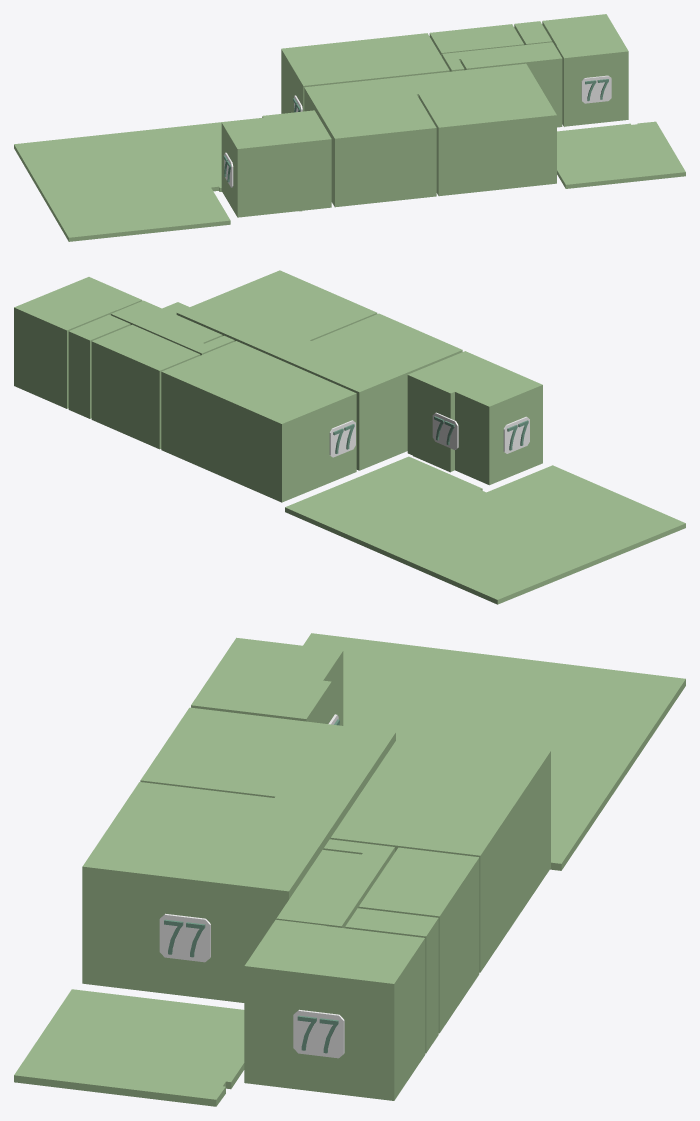
The picture shows the model from 3 angles, top to bottom: view 1: azimuth 30°, elevation 25°; view 2: azimuth 150°, elevation 25°; view 3: azimuth 270°, elevation 25°; orthographic projection. The views are drawn at different scales.
Visible parts, largest first — view 1: g_9, g_4, g_3, g_0, g_1, g_8, g_2, g_5, g_6, g_18, g_7; view 2: g_9, g_1, g_0, g_3, g_4, g_6, g_2, g_5, g_7, g_21, g_27, g_12; view 3: g_4, g_9, g_2, g_1, g_8, g_3, g_6, g_0, g_5, g_7, g_15, g_24.
Part boxes in pixels (left/top/right/bottom): g_9: left=14, top=118, right=261, bottom=241; g_4: left=408, top=63, right=556, bottom=196; g_3: left=304, top=76, right=436, bottom=207; g_0: left=221, top=110, right=331, bottom=217; g_1: left=281, top=33, right=449, bottom=113; g_8: left=557, top=121, right=685, bottom=188; g_2: left=542, top=14, right=628, bottom=126; g_5: left=442, top=42, right=562, bottom=127; g_6: left=429, top=24, right=524, bottom=56; g_18: left=581, top=75, right=611, bottom=103; g_7: left=514, top=21, right=552, bottom=44; g_9: left=285, top=456, right=685, bottom=604; g_1: left=161, top=341, right=356, bottom=502; g_0: left=407, top=351, right=542, bottom=485; g_3: left=274, top=313, right=462, bottom=470; g_4: left=176, top=270, right=377, bottom=356; g_6: left=91, top=324, right=200, bottom=449; g_2: left=14, top=277, right=142, bottom=408; g_5: left=111, top=300, right=234, bottom=355; g_7: left=68, top=314, right=130, bottom=418; g_21: left=432, top=412, right=458, bottom=449; g_27: left=329, top=420, right=355, bottom=457; g_12: left=503, top=416, right=529, bottom=453; g_4: left=82, top=782, right=345, bottom=1002; g_9: left=303, top=633, right=685, bottom=870; g_2: left=244, top=919, right=425, bottom=1100; g_1: left=330, top=733, right=550, bottom=972; g_8: left=14, top=989, right=244, bottom=1106; g_3: left=140, top=707, right=395, bottom=814; g_6: left=358, top=847, right=479, bottom=1033; g_0: left=191, top=637, right=343, bottom=725; g_5: left=276, top=839, right=394, bottom=928; g_7: left=345, top=908, right=438, bottom=1053; g_15: left=293, top=1009, right=344, bottom=1058; g_24: left=159, top=913, right=210, bottom=962.
Bounding box in the file's own units: 21.33 × 2.65 × 12.93.
